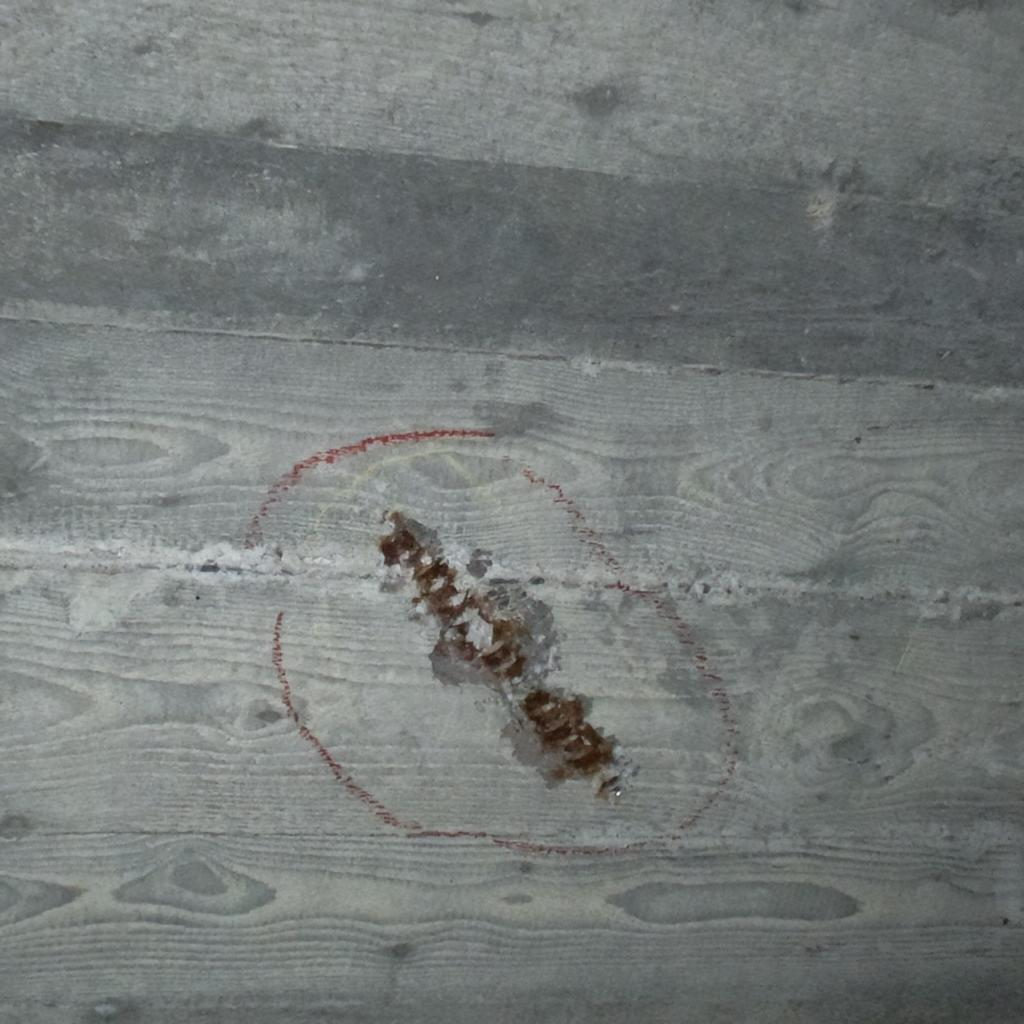exposed_rebar: (380, 512, 526, 686), (520, 680, 614, 780)
spalling: (380, 512, 624, 796)
